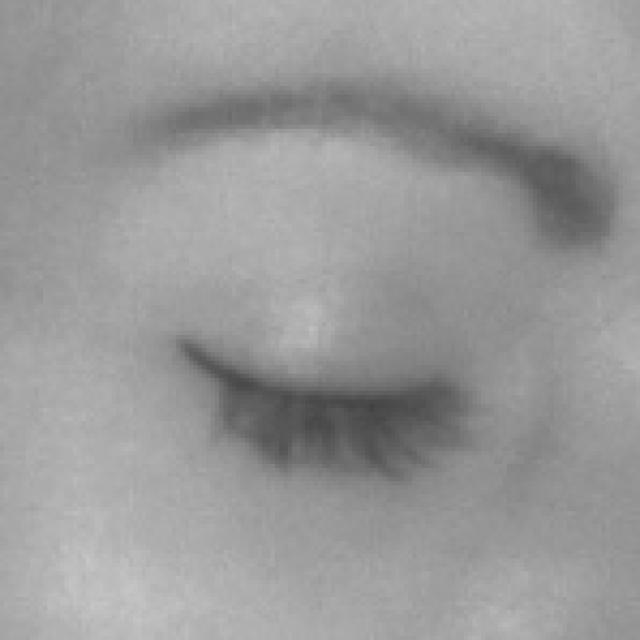close: (0, 37, 640, 562)
